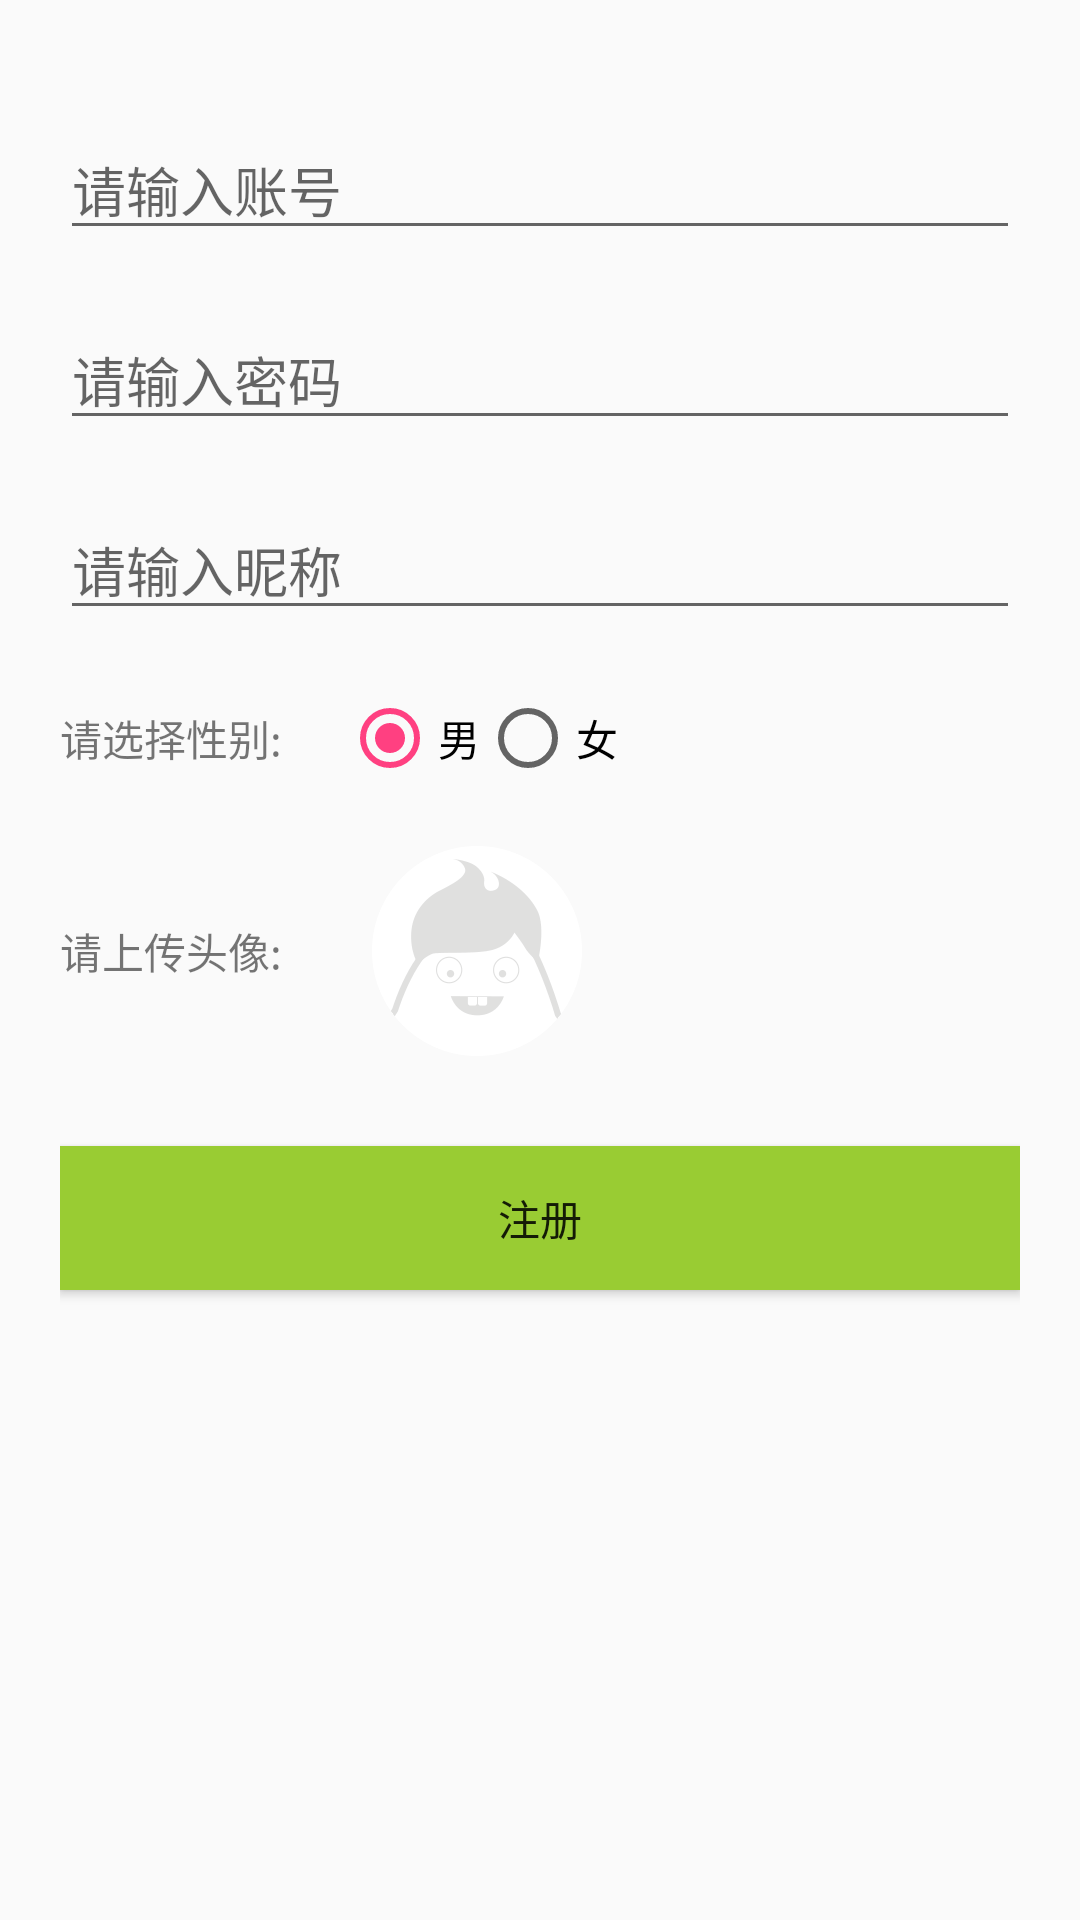

Icon click points for this 1080 x 1920 phone screenshot, format [x,y]:
personal user: [476,939]
